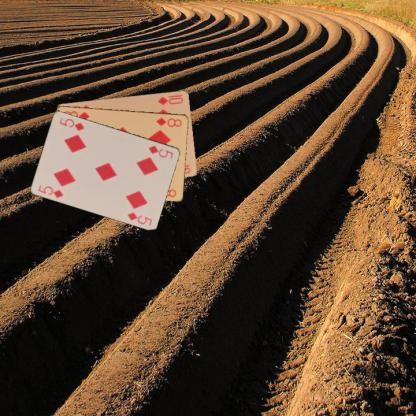10d: (156, 92, 184, 106)
5d: (146, 143, 175, 160), (36, 182, 65, 199)
8d: (154, 115, 183, 128)
